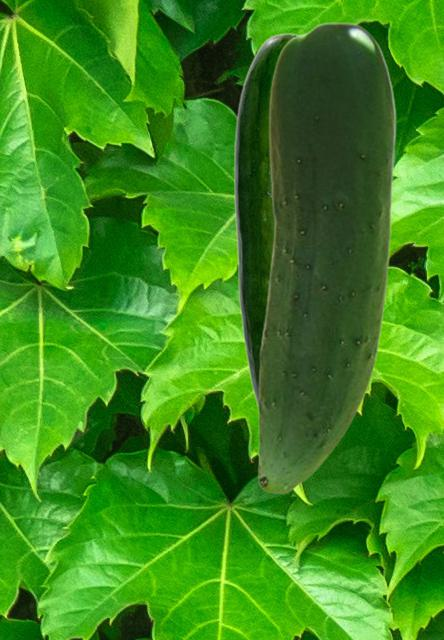cucumber: (257, 22, 395, 493), (233, 32, 297, 405)
